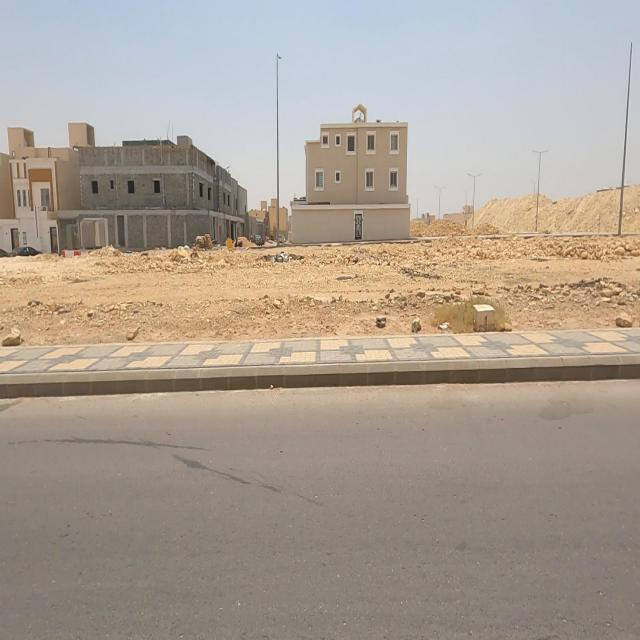debris: (244, 228, 308, 292)
